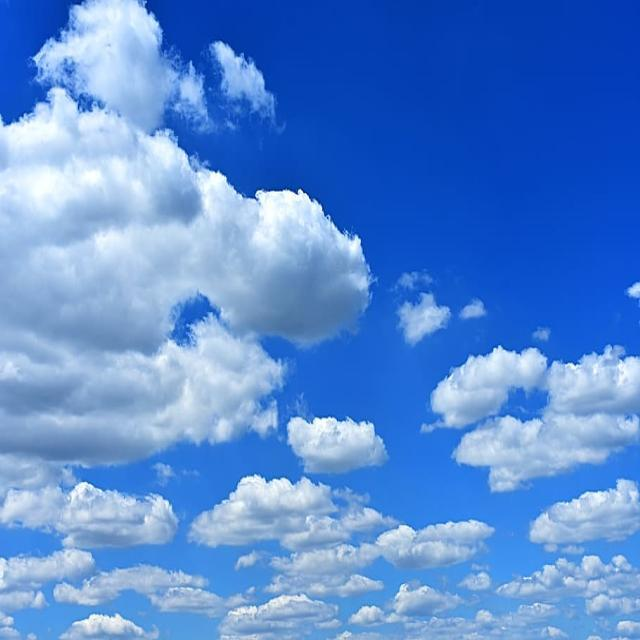cumulus: (4, 0, 390, 469), (446, 336, 638, 474)
